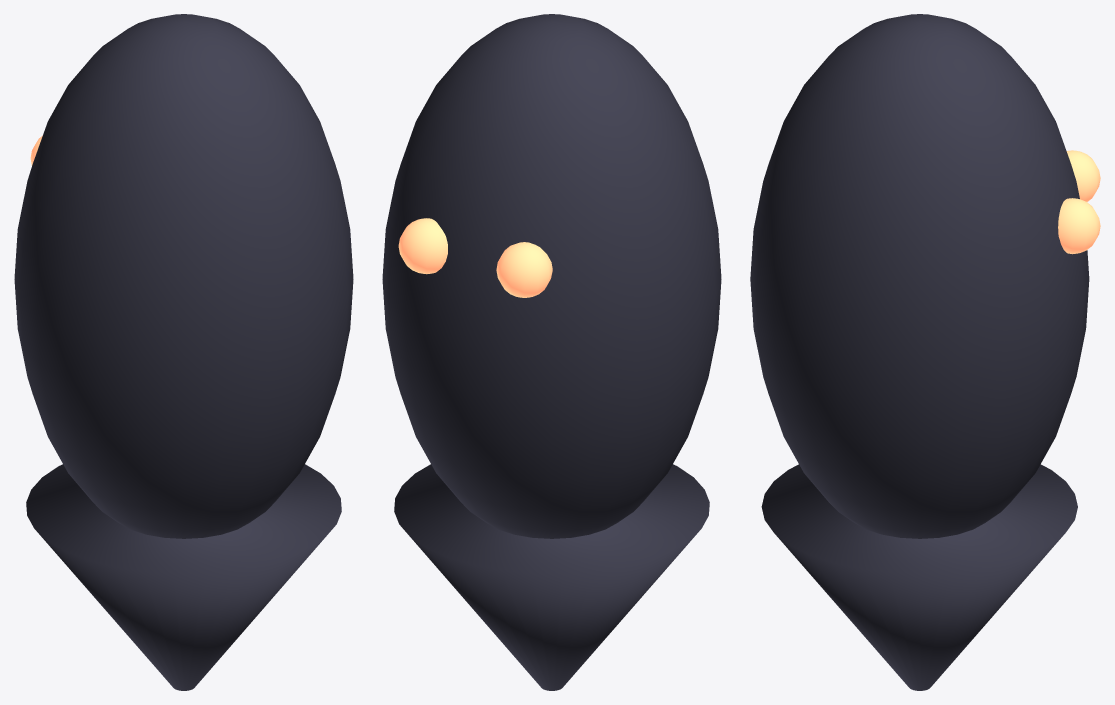
File: living-shadow.glb
3 renders of one model, left to right at view 1: azimuth 30°, elevation 25°; view 2: azimuth 150°, elevation 25°; view 3: azimuth 270°, elevation 25°, orthographic.
Visible parts, largest first — view 1: Body, Tail; view 2: Body, Tail, Eye, Eye.001; view 3: Body, Tail, Eye.001, Eye.
Part boxes in pixels (<box>): Body: <box>14,14,353,538</box>; Tail: <box>26,464,341,690</box>; Body: <box>382,14,721,538</box>; Tail: <box>394,464,709,690</box>; Eye: <box>496,242,552,297</box>; Eye.001: <box>398,218,447,274</box>; Body: <box>750,14,1089,538</box>; Tail: <box>761,464,1077,690</box>; Eye.001: <box>1058,198,1100,254</box>; Eye: <box>1066,150,1100,201</box>.
Bounding box in the file's own units: 0.4633 × 1 × 0.4788.
